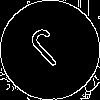J: (25, 25, 75, 76)
